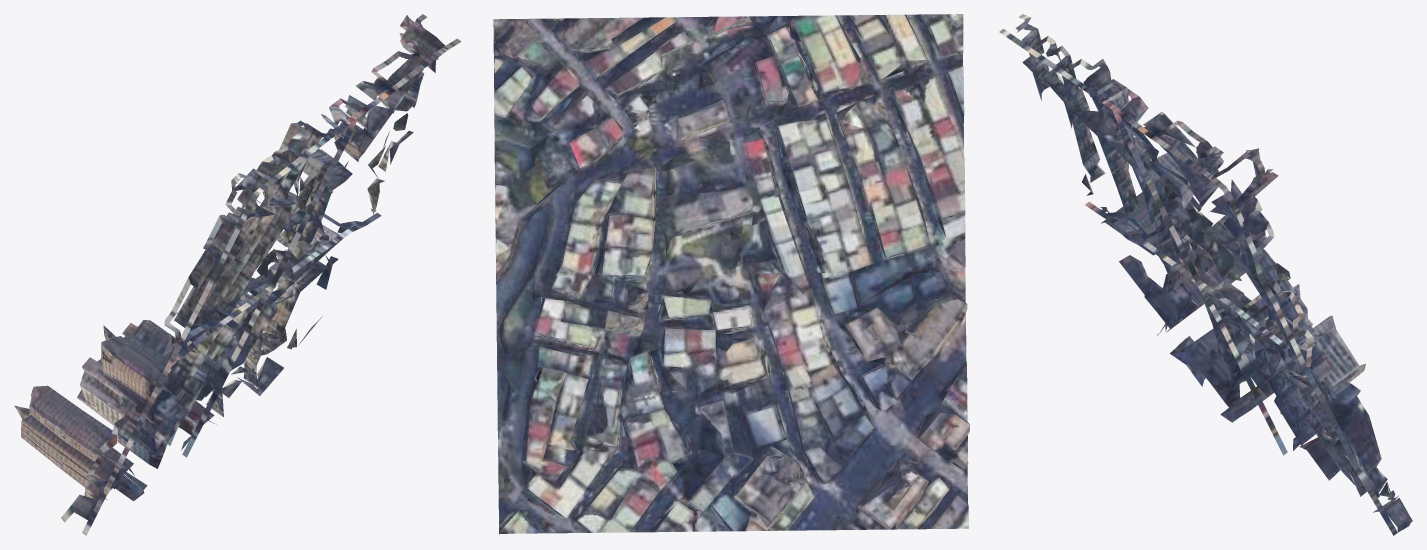
3 renders of one model, left to right at view 1: azimuth 30°, elevation 25°; view 2: azimuth 150°, elevation 25°; view 3: azimuth 270°, elevation 25°, orthographic. The views are drawn at different scales.
Bounding box in the file's own units: 327 × 292 × 265.
Materials: 1 (1 with a texture image).
